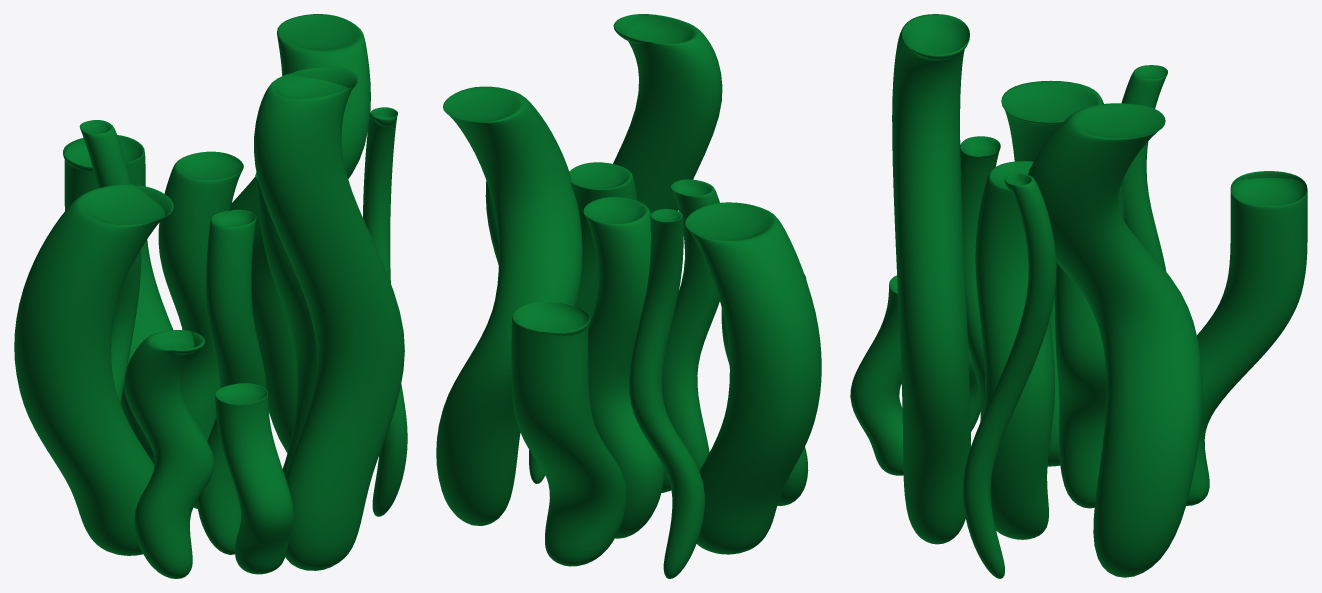
The model's file is sea_plants_stumpf.glb.
The picture shows the model from 3 angles, left to right: view 1: azimuth 30°, elevation 25°; view 2: azimuth 150°, elevation 25°; view 3: azimuth 270°, elevation 25°; orthographic projection. The views are drawn at different scales.
Visible parts, largest first — view 1: Cube.012; view 2: Cube.012; view 3: Cube.012.
Part boxes in pixels (box(x1,y1,x2,y2)): Cube.012: box(14, 14, 407, 578); Cube.012: box(436, 14, 821, 578); Cube.012: box(850, 14, 1307, 578).
Bounding box in the file's own units: 11.23 × 14.56 × 11.97.
